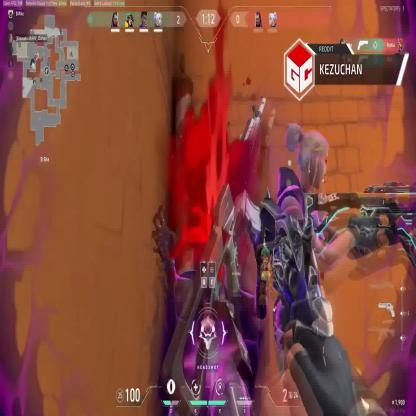enemy: (278, 122, 364, 416)
enemy_head: (286, 125, 328, 189)
